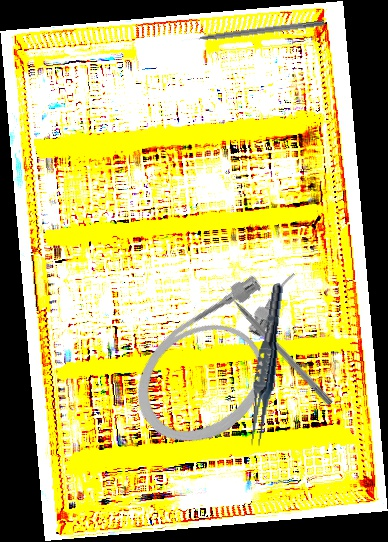Cannula: (113, 245, 343, 467)
Hook Surgical: (181, 18, 325, 44)
Pusher: (218, 282, 335, 407)
Tissue Forceps: (245, 281, 288, 451)
